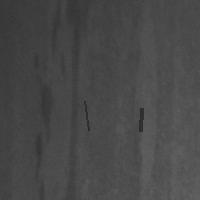inclusion: (56, 1, 83, 198), (118, 11, 145, 199), (27, 54, 54, 183), (82, 99, 90, 132), (138, 106, 143, 133)
